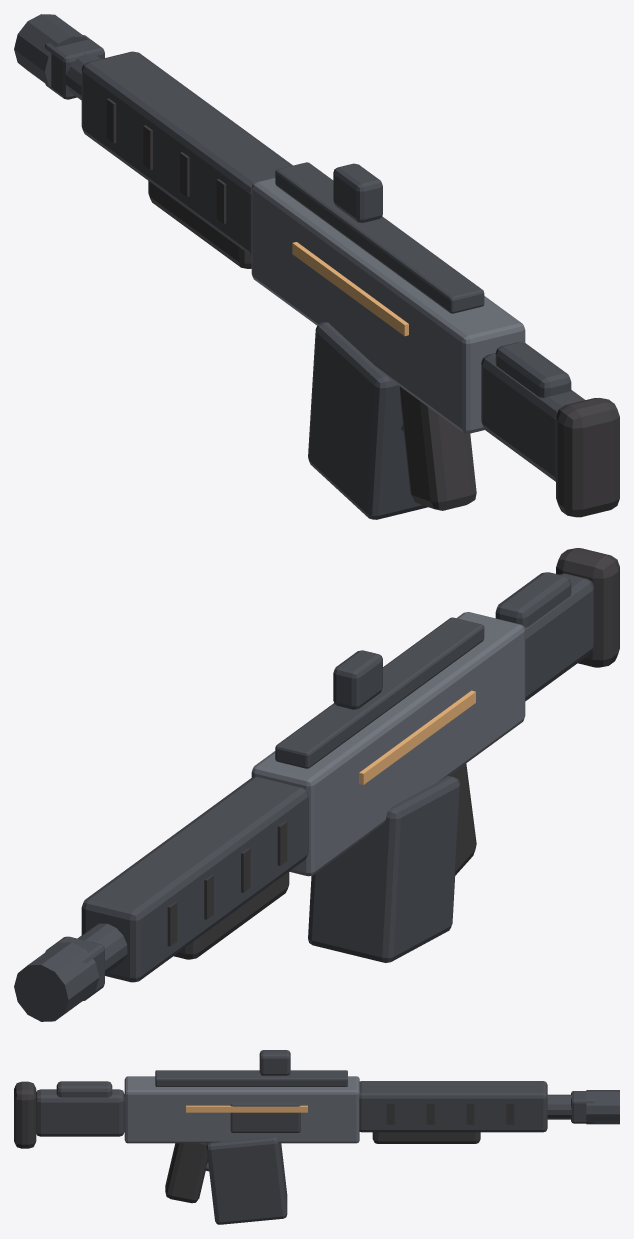
Rendered from WPN_MachineGun.fbx.
The picture shows the model from 3 angles, top to bottom: view 1: azimuth 30°, elevation 25°; view 2: azimuth 150°, elevation 25°; view 3: azimuth 270°, elevation 25°; orthographic projection. The views are drawn at different scales.
Parts seen in each view (by area): view 1: WPN_MachineGun; view 2: WPN_MachineGun; view 3: WPN_MachineGun.
Part boxes in pixels (<box>): WPN_MachineGun: <box>14,14,619,519</box>; WPN_MachineGun: <box>14,548,619,1021</box>; WPN_MachineGun: <box>14,1050,619,1224</box>.
Size of the model in its own units: 0.095 by 0.3215 by 1.08.
